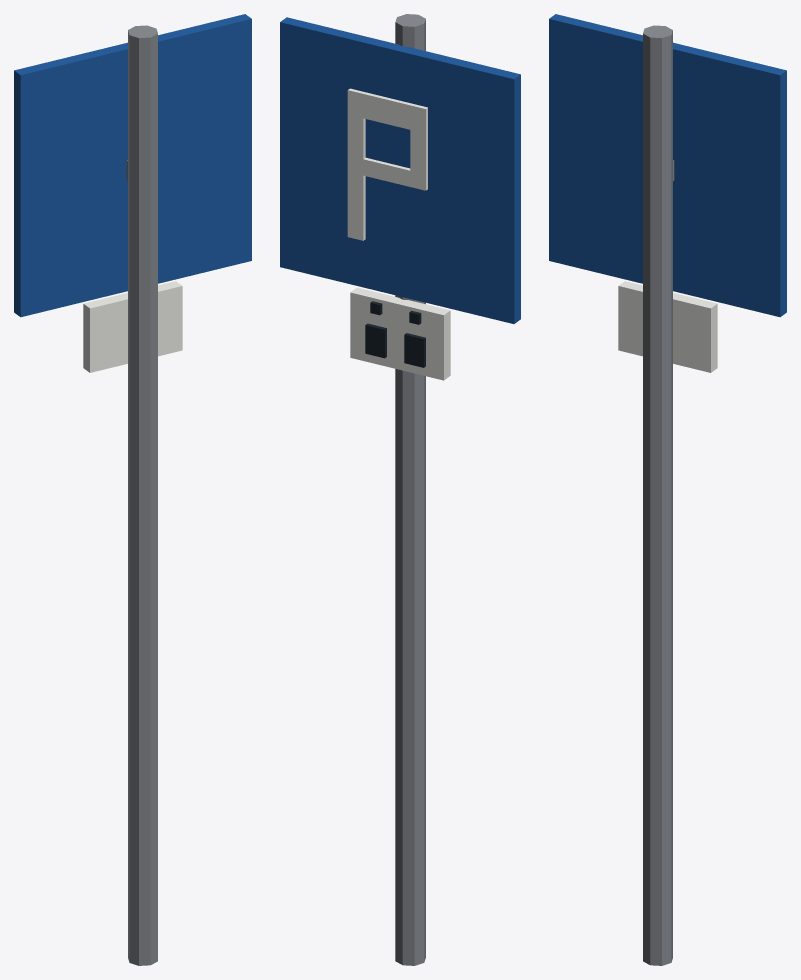
Rendered from prop-parking_sign.glb.
3 renders of one model, left to right at view 1: azimuth 30°, elevation 25°; view 2: azimuth 150°, elevation 25°; view 3: azimuth 330°, elevation 25°, orthographic.
Visible parts, largest first — view 1: prop-parking_sign; view 2: prop-parking_sign; view 3: prop-parking_sign.
Boxes of the visible parts, box(x1,y1,x2,y2) form: prop-parking_sign: box(14, 14, 251, 965); prop-parking_sign: box(280, 14, 520, 965); prop-parking_sign: box(549, 14, 786, 965).
Size of the model in its own units: 0.6 by 2.3 by 0.106.
